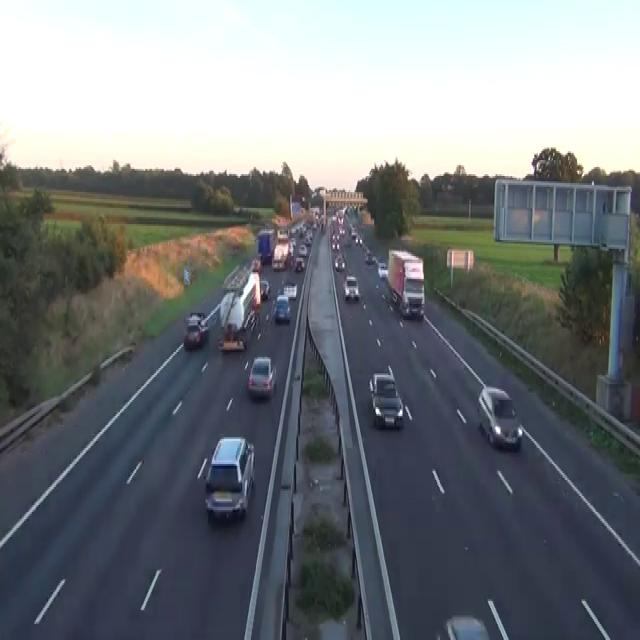Car: (204, 435, 255, 521), (476, 386, 523, 450), (368, 372, 403, 428), (435, 614, 490, 638), (247, 356, 276, 398), (183, 311, 209, 350), (400, 276, 424, 318), (368, 372, 396, 406), (216, 322, 247, 352), (273, 293, 290, 322), (343, 274, 359, 300), (185, 311, 207, 329), (282, 281, 297, 299), (260, 278, 270, 300), (334, 252, 345, 270), (251, 256, 261, 274), (294, 256, 305, 272), (377, 262, 387, 278), (365, 251, 374, 263), (298, 244, 307, 256), (354, 235, 363, 245), (350, 224, 357, 236), (304, 237, 311, 246), (343, 204, 348, 213), (359, 237, 363, 246)
Truck: (216, 270, 260, 350), (386, 247, 425, 320), (256, 228, 276, 263), (271, 242, 289, 270)
